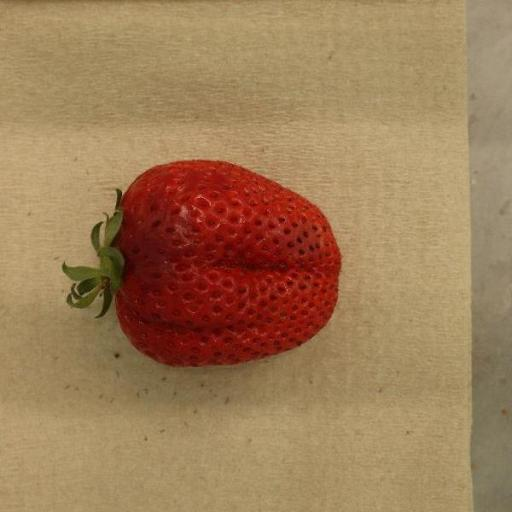Strawberry: (61, 160, 342, 369)
